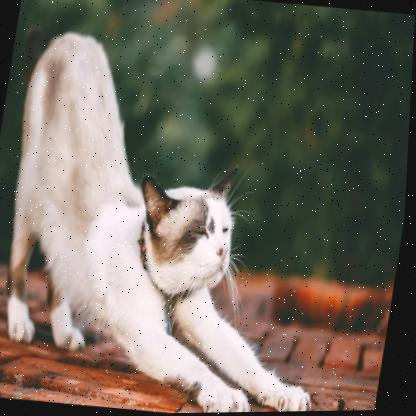cat: (0, 19, 369, 416)
